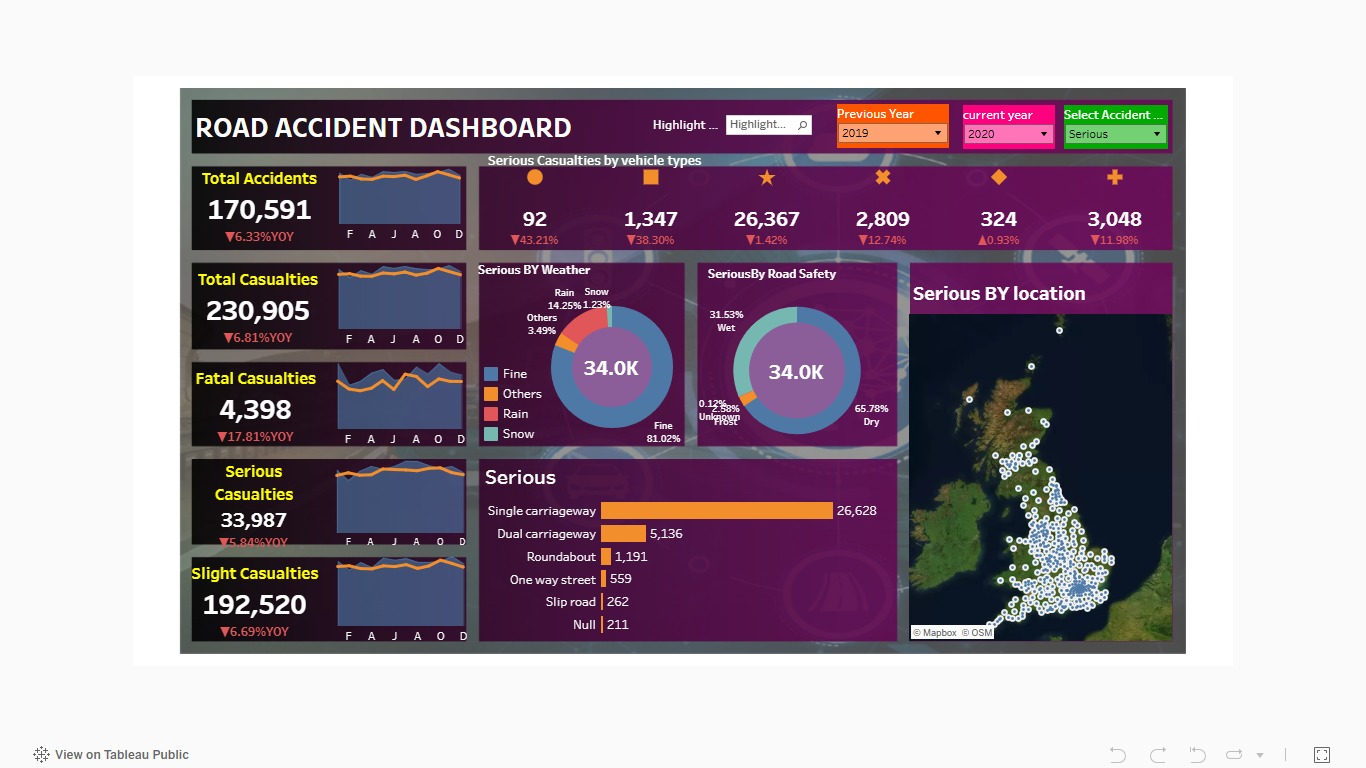

Layout of this report page (visuals, bound fields, positions):
{"tool":"tableau","page":{"name":"ROAD Accident","canvas":[1100,590],"ordinal":0},"visuals":[{"type":"image","param":"C:/Users/HARSHITA/Desktop/ac.png","box":[8,8,1084,574]},{"type":"parameter","param":"[Parameters].[Parameter 2]","box":[864,26,160,51]},{"type":"text","box":[62,27,450,47]},{"type":"parameter","param":"[Parameters].[current year (copy)_923237975866220545]","box":[539,28,160,44]},{"type":"parameter","param":"[Parameters].[Parameter 1]","box":[703,29,160,44]},{"type":"text","box":[355,68,359,30]},{"type":"worksheet","title":"Vehicle Type Image","mark":"Shape","box":[340,83,704,36]},{"type":"worksheet","title":"Total Accidents","mark":"Automatic","box":[57,86,140,87]},{"type":"worksheet","title":"Accident sparkline","mark":"Automatic","rows":["CY Accident (copy)_923237975867392003","Calculation_923237975866454018"],"cols":["Accident Date"],"box":[197,86,139,87]},{"type":"worksheet","title":"Vehicle type Kpi","mark":"Automatic","box":[340,119,704,61]},{"type":"text","box":[345,178,248,30]},{"type":"worksheet","title":"Total Casualties","mark":"Automatic","box":[55,182,141,96]},{"type":"worksheet","title":"Total Casualties sparkline","mark":"Automatic","rows":["CY casualties (copy)_923237975872954375","Calculation_923237975871655941"],"cols":["Accident Date"],"box":[196,182,141,96]},{"type":"text","box":[575,182,264,30]},{"type":"worksheet","title":"BY location","mark":"Automatic","rows":["Latitude"],"cols":["Longitude"],"box":[776,197,263,368]},{"type":"worksheet","title":"Weather condition","mark":"Pie","rows":["Calculation_923237975941959703","Calculation_923237975941984281"],"box":[378,207,202,168]},{"type":"worksheet","title":"Road Safety","mark":"Pie","rows":["Calculation_923237975941959703","Calculation_923237975941984281"],"box":[566,208,196,173]},{"type":"worksheet","title":"Fetal Casualties ","mark":"Automatic","box":[51,280,144,98]},{"type":"worksheet","title":"Fatal Casualties sparkline ","mark":"Automatic","rows":["CY fatal casualties (copy)_923237975877312523","Calculation_923237975875985417"],"cols":["Accident Date"],"box":[195,280,143,98]},{"type":"legend","title":"Weather condition","param":"[federated.0pzygvh0ixqojl1ffy8e50no6pzr].[Weather Conditions (group)]","box":[348,288,85,98]},{"type":"worksheet","title":"Serious Casualties ","mark":"Automatic","box":[52,374,145,103]},{"type":"worksheet","title":"Serious Casualties sparkline ","mark":"Automatic","rows":["CY Serious casualties (copy)_923237975878823950","CY fatal casualties (copy)_923237975878389773"],"cols":["Accident Date"],"box":[197,374,145,103]},{"type":"worksheet","title":"Road Type","mark":"Automatic","rows":["Road_Type"],"cols":["Calculation_923237975871655941"],"box":[348,380,412,180]},{"type":"worksheet","title":"Slight Casualties ","mark":"Automatic","box":[49,473,146,102]},{"type":"worksheet","title":"Slight Casualties sparkline ","mark":"Automatic","rows":["CY Slight casualties  (copy)_923237975880265745","CY Serious casualties (copy)_923237975880101904"],"cols":["Accident Date"],"box":[195,473,145,102]}]}

Visuals, with their boxes on the page's 1100x590 design canvas (x1, y1, x2, y2). These are canvas units, not pixel positions in the 1366x768 screenshot, which may show the page scaled, cropped or inside an application window:
image: [8, 8, 1092, 582]
parameter: [864, 26, 1024, 77]
text: [62, 27, 512, 74]
parameter: [539, 28, 699, 72]
parameter: [703, 29, 863, 73]
text: [355, 68, 714, 98]
"Vehicle Type Image" worksheet (Shape marks): [340, 83, 1044, 119]
"Total Accidents" worksheet: [57, 86, 197, 173]
"Accident sparkline" worksheet: [197, 86, 336, 173]
"Vehicle type Kpi" worksheet: [340, 119, 1044, 180]
text: [345, 178, 593, 208]
"Total Casualties" worksheet: [55, 182, 196, 278]
"Total Casualties sparkline" worksheet: [196, 182, 337, 278]
text: [575, 182, 839, 212]
"BY location" worksheet: [776, 197, 1039, 565]
"Weather condition" worksheet (Pie marks): [378, 207, 580, 375]
"Road Safety" worksheet (Pie marks): [566, 208, 762, 381]
"Fetal Casualties " worksheet: [51, 280, 195, 378]
"Fatal Casualties sparkline " worksheet: [195, 280, 338, 378]
"Weather condition" legend: [348, 288, 433, 386]
"Serious Casualties " worksheet: [52, 374, 197, 477]
"Serious Casualties sparkline " worksheet: [197, 374, 342, 477]
"Road Type" worksheet: [348, 380, 760, 560]
"Slight Casualties " worksheet: [49, 473, 195, 575]
"Slight Casualties sparkline " worksheet: [195, 473, 340, 575]
